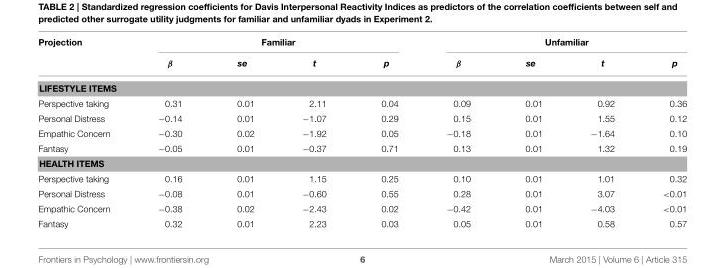table: (37, 37, 686, 228)
table column: (37, 37, 133, 228), (277, 37, 353, 228), (421, 37, 497, 228), (133, 37, 208, 228), (565, 37, 637, 228), (208, 37, 277, 228), (353, 37, 421, 228), (497, 37, 565, 228), (637, 37, 686, 228)
table column header: (37, 37, 686, 75)
table projected row header: (37, 75, 686, 95), (37, 156, 686, 171)
table row: (37, 52, 686, 75), (37, 75, 686, 95), (37, 140, 686, 156), (37, 37, 686, 52), (37, 95, 686, 110), (37, 110, 686, 125), (37, 125, 686, 140), (37, 156, 686, 171), (37, 171, 686, 186), (37, 186, 686, 201), (37, 201, 686, 216), (37, 216, 686, 228)
table spanning cell: (133, 37, 421, 52), (421, 37, 686, 52), (37, 37, 133, 75)
